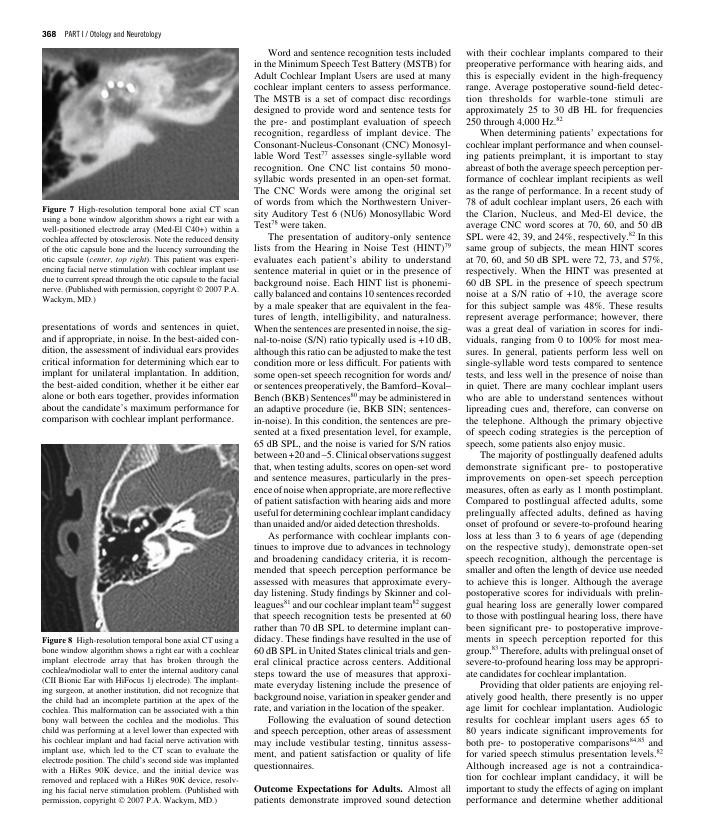caption: (41, 636, 240, 806), (41, 204, 240, 305)
header: (64, 29, 162, 40)
image: (40, 443, 240, 633), (42, 47, 239, 201)
sub-section-heading: (253, 784, 404, 795)
text: (463, 45, 665, 808), (251, 46, 452, 807), (40, 321, 241, 427)
